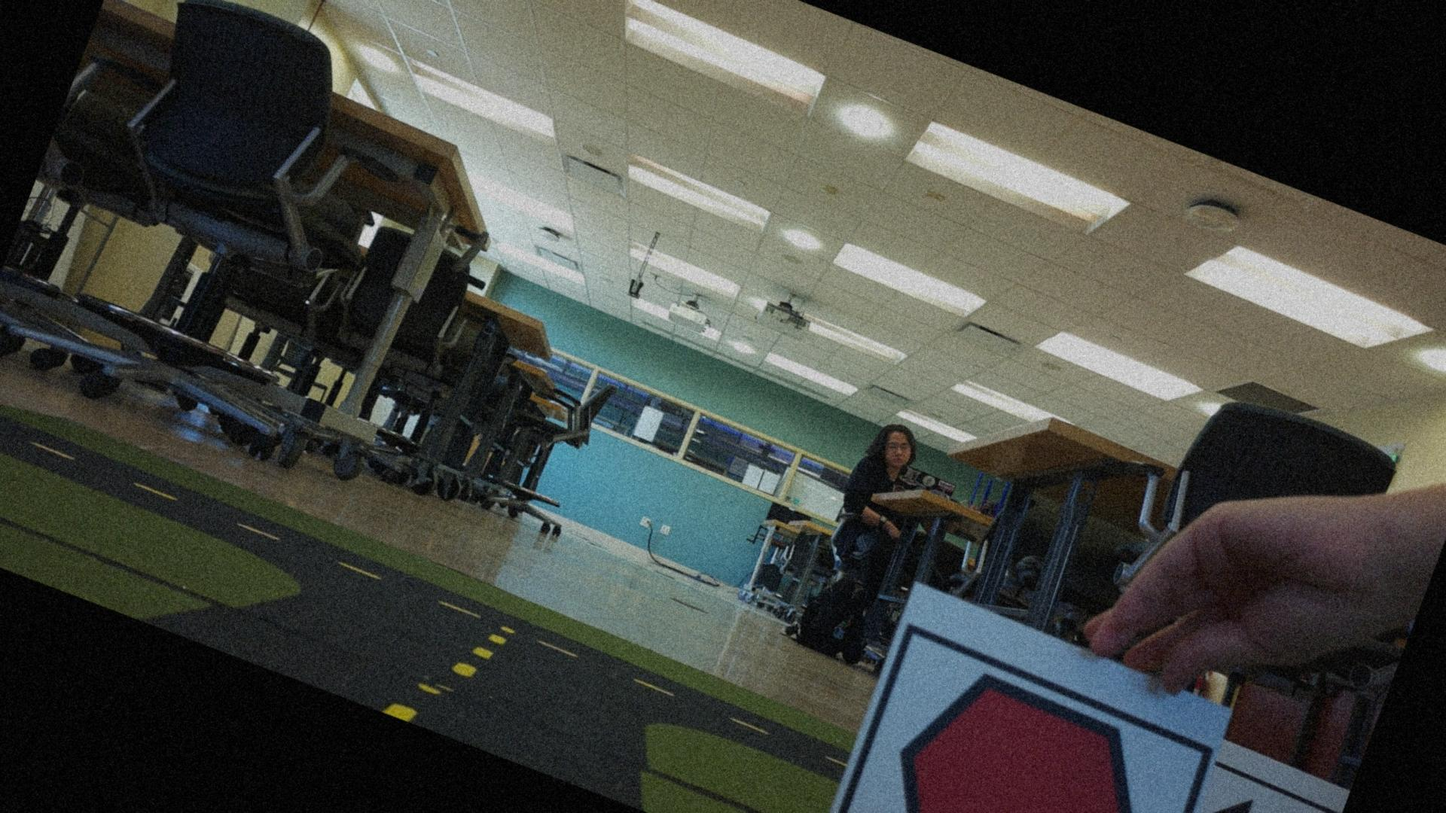stop: (834, 636, 1194, 812)
turnright: (1171, 772, 1338, 812)
yellowline: (381, 604, 505, 743)
